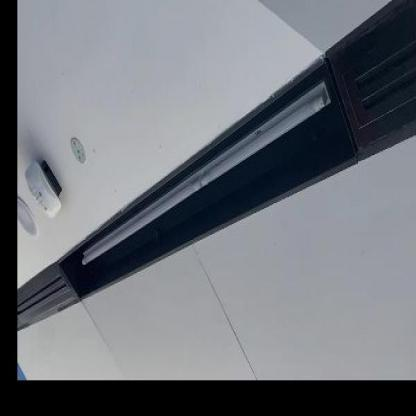light_off: (74, 76, 338, 280)
